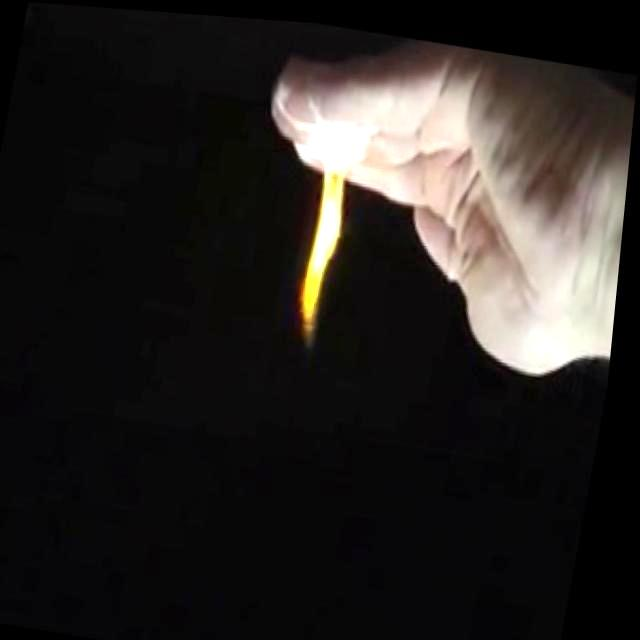fire: (312, 107, 372, 239)
